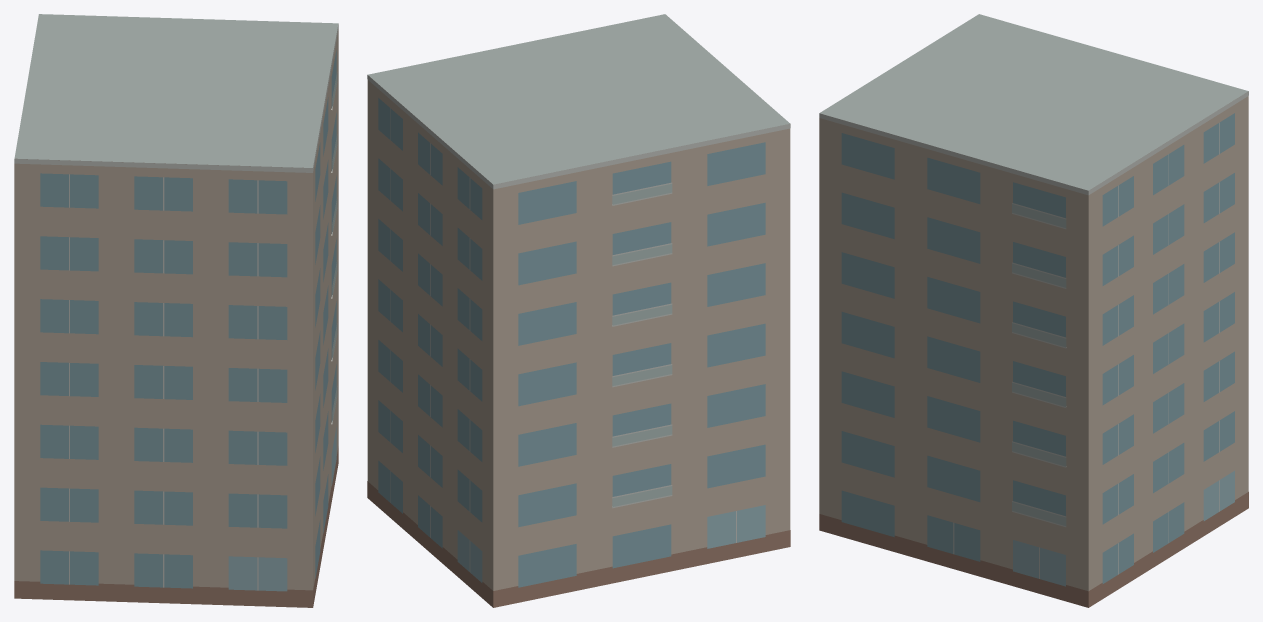
The model's file is survey-upis-32894444.glb.
The picture shows the model from 3 angles, left to right: view 1: azimuth 30°, elevation 25°; view 2: azimuth 150°, elevation 25°; view 3: azimuth 270°, elevation 25°; orthographic projection. The views are drawn at different scales.
Parts seen in each view (by area): view 1: survey-upis-32894444.tmp; view 2: survey-upis-32894444.tmp; view 3: survey-upis-32894444.tmp.
Part boxes in pixels (x1,y1,x2,y2): survey-upis-32894444.tmp: [14, 14, 338, 607]; survey-upis-32894444.tmp: [367, 14, 790, 607]; survey-upis-32894444.tmp: [819, 14, 1248, 607].
Bounding box in the file's own units: 19.68 × 21.65 × 20.21.
